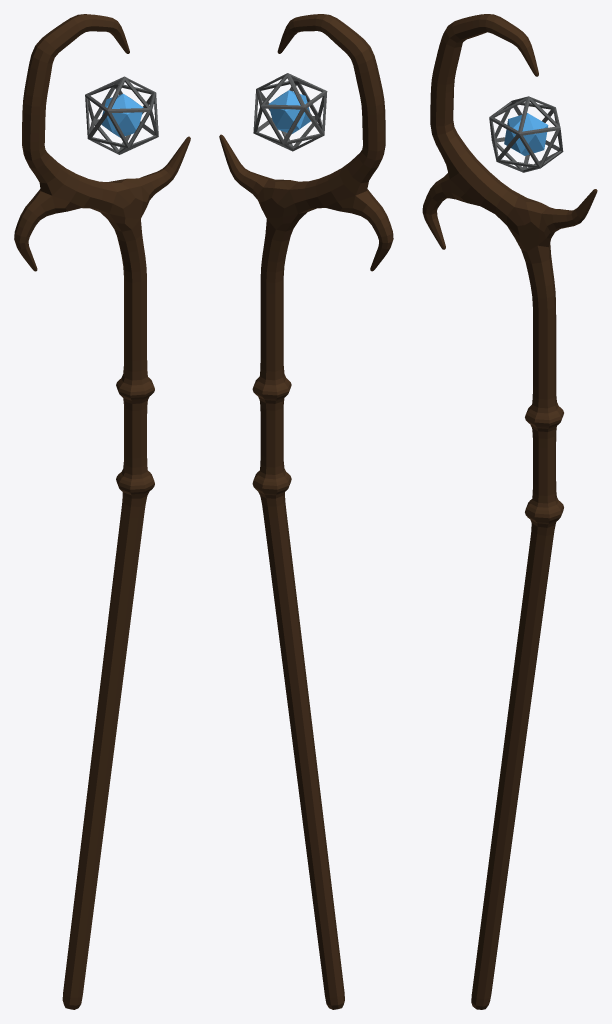
File: Staff_Dice.fbx
The picture shows the model from 3 angles, left to right: view 1: azimuth 30°, elevation 25°; view 2: azimuth 150°, elevation 25°; view 3: azimuth 330°, elevation 25°; orthographic projection.
Visible parts, largest first — view 1: Circle; view 2: Circle; view 3: Circle.
Part boxes in pixels (<box>): Circle: <box>14,14,190,1009</box>; Circle: <box>219,14,393,1009</box>; Circle: <box>422,14,597,1009</box>.
Size of the model in its own units: 75.69 by 412 by 27.41.
